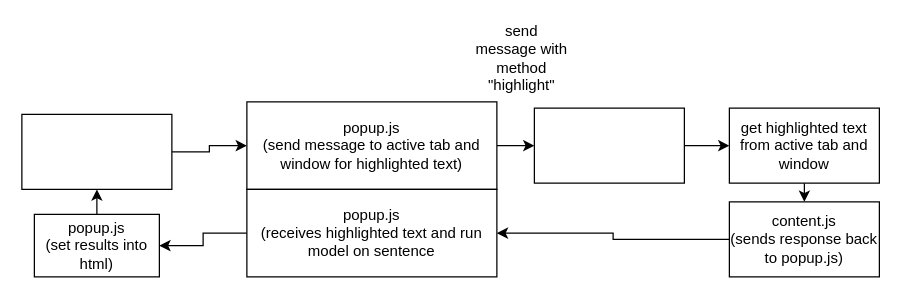
The diagram is 901 pixels wide and 299 high, and some of its shapes have lost their labels. The centre of each missing label's shape, as x and y in pixels:
content.js (receives highlight): point (608, 145)
popup.html (user highlight text and press measure): point (96, 151)
